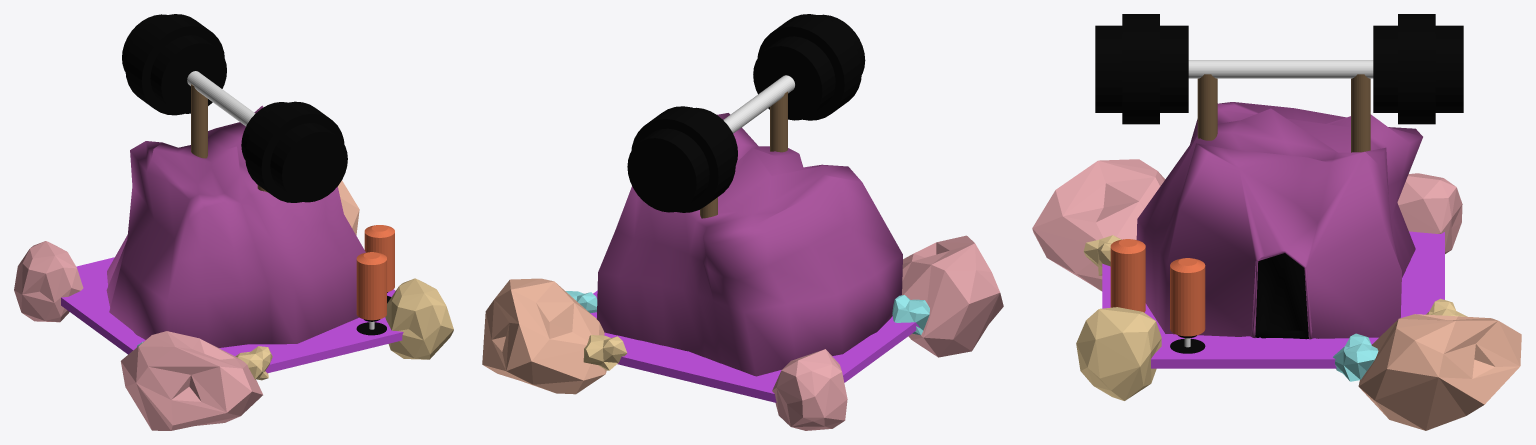
File: ProdutoraMermao1e2.fbx
3 renders of one model, left to right at view 1: azimuth 30°, elevation 25°; view 2: azimuth 150°, elevation 25°; view 3: azimuth 270°, elevation 25°, orthographic. The views are drawn at different scales.
Visible parts, largest first — view 1: Alter; view 2: Alter; view 3: Alter.
Boxes of the visible parts, x1,y1,x2,y2 form: Alter: (14, 14, 453, 430); Alter: (482, 14, 1003, 430); Alter: (1032, 14, 1521, 430).
Size of what is drawn, in the model's own units: 562 by 442 by 595.
